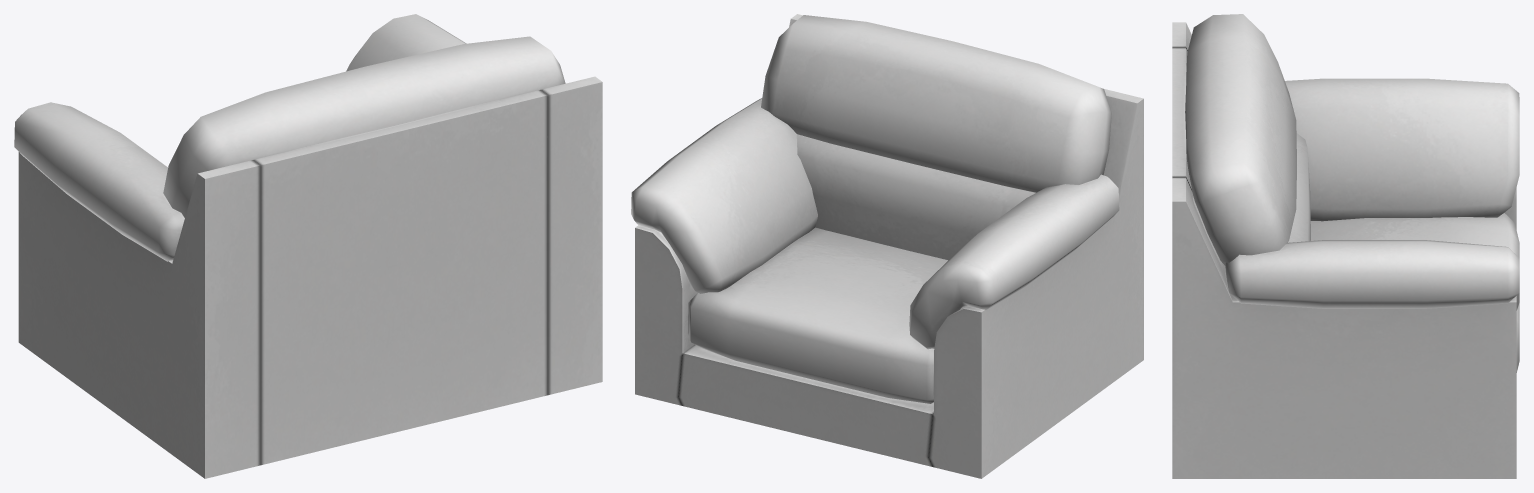
The model's file is Pfb_Sofa__3.fbx.
3 renders of one model, left to right at view 1: azimuth 30°, elevation 25°; view 2: azimuth 150°, elevation 25°; view 3: azimuth 270°, elevation 25°, orthographic. The views are drawn at different scales.
Parts seen in each view (by area): view 1: MAT_Sofa_Gray; view 2: MAT_Sofa_Gray; view 3: MAT_Sofa_Gray.
Boxes of the visible parts, x1,y1,x2,y2 form: MAT_Sofa_Gray: (14, 14, 602, 478); MAT_Sofa_Gray: (631, 14, 1143, 478); MAT_Sofa_Gray: (1172, 14, 1519, 478).
Bounding box in the file's own units: 1.58 × 1.2 × 1.22.
Materials: 1 (1 with a texture image).
